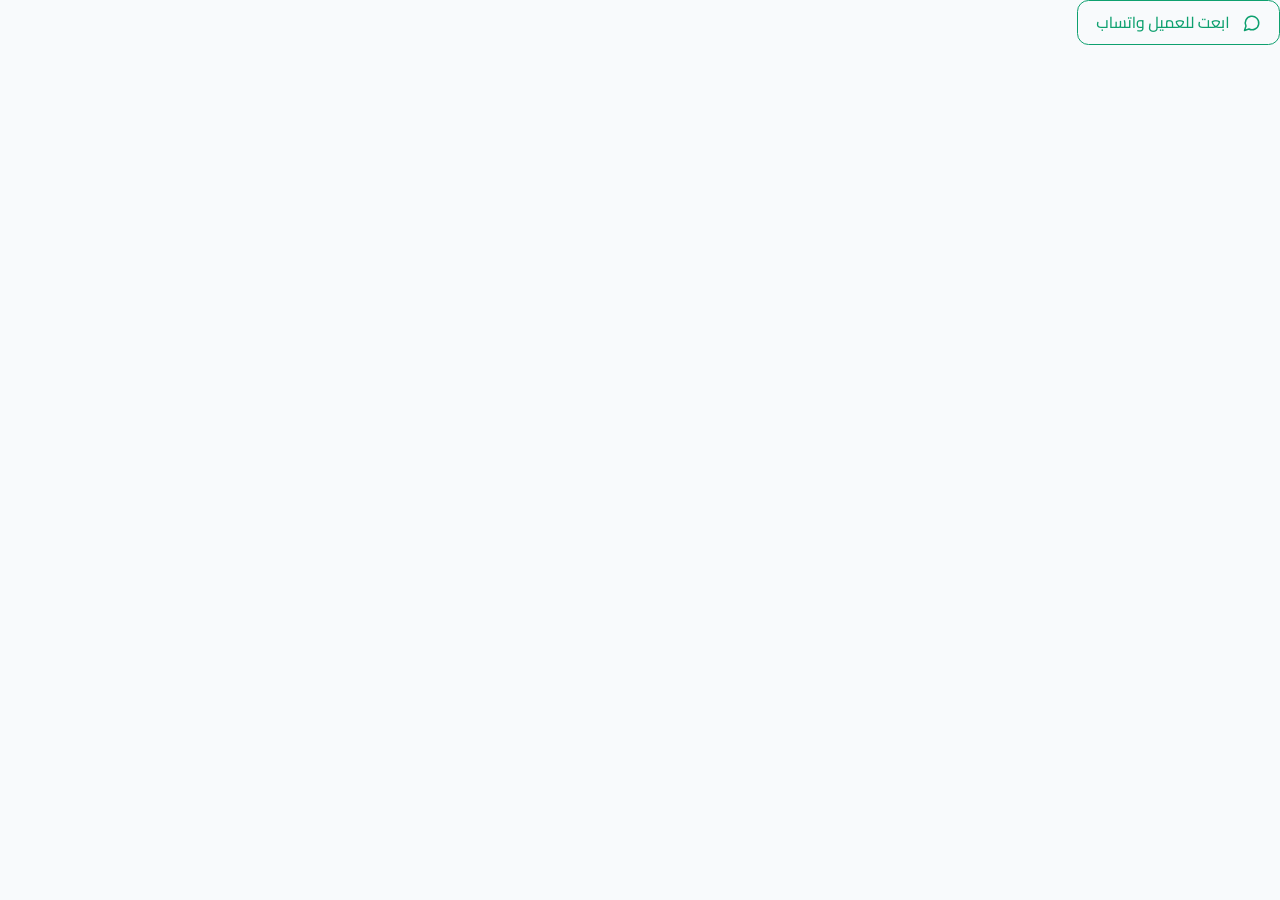
Test: زرار الواتساب — رقم مش موجود ← تنبيه ← صفحة الحساب (owner 2026-11-19) › no right to edit the account: no trip to the page, he is told who can, and may type the number once
Later steps or results of the test are not shown.
Click the button "ابعت للعميل واتساب": (1179, 22) [1077, 0, 1279, 45]
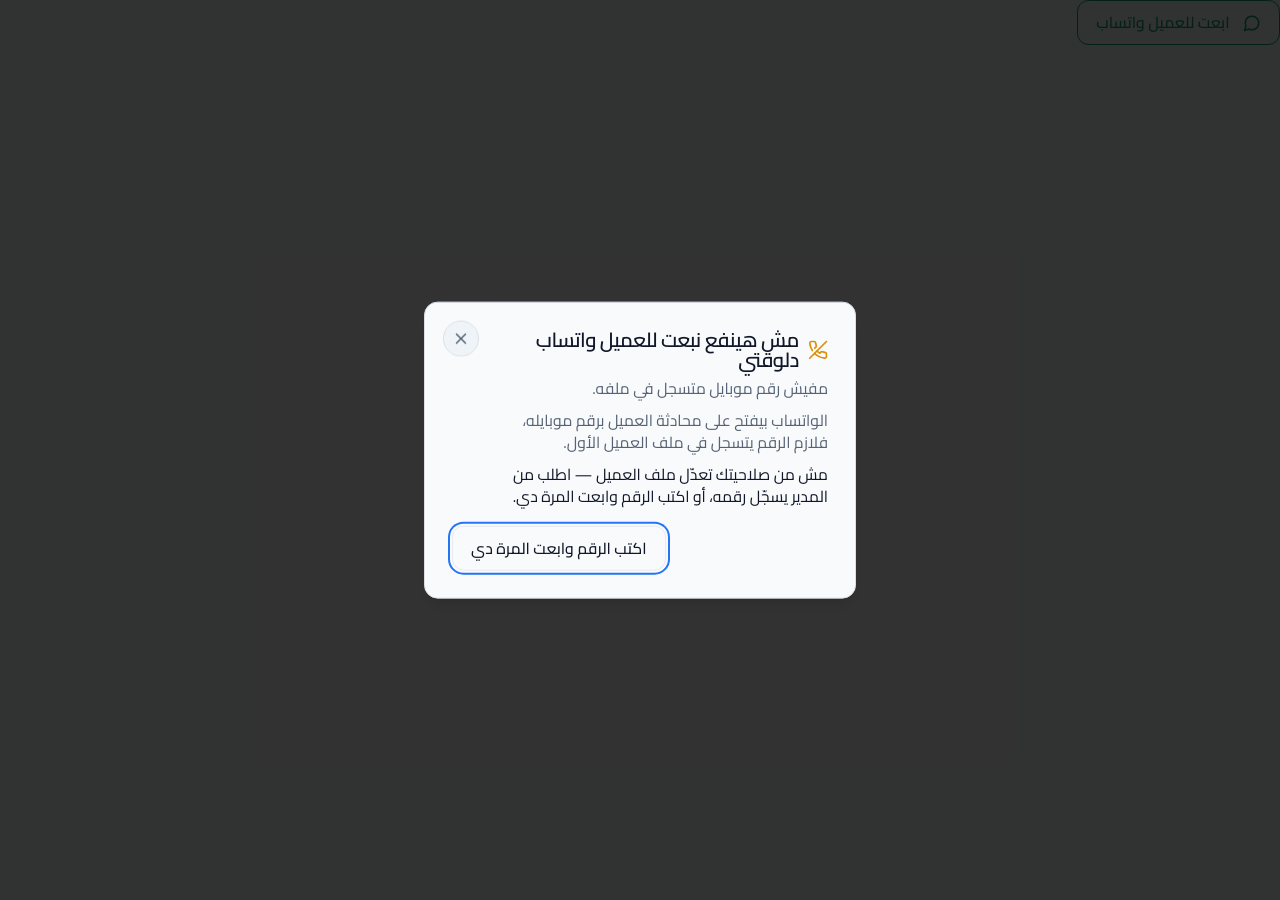
Now the element with test id "wa-problem" shows "اطلب من المدير", box [513, 458, 828, 511]
